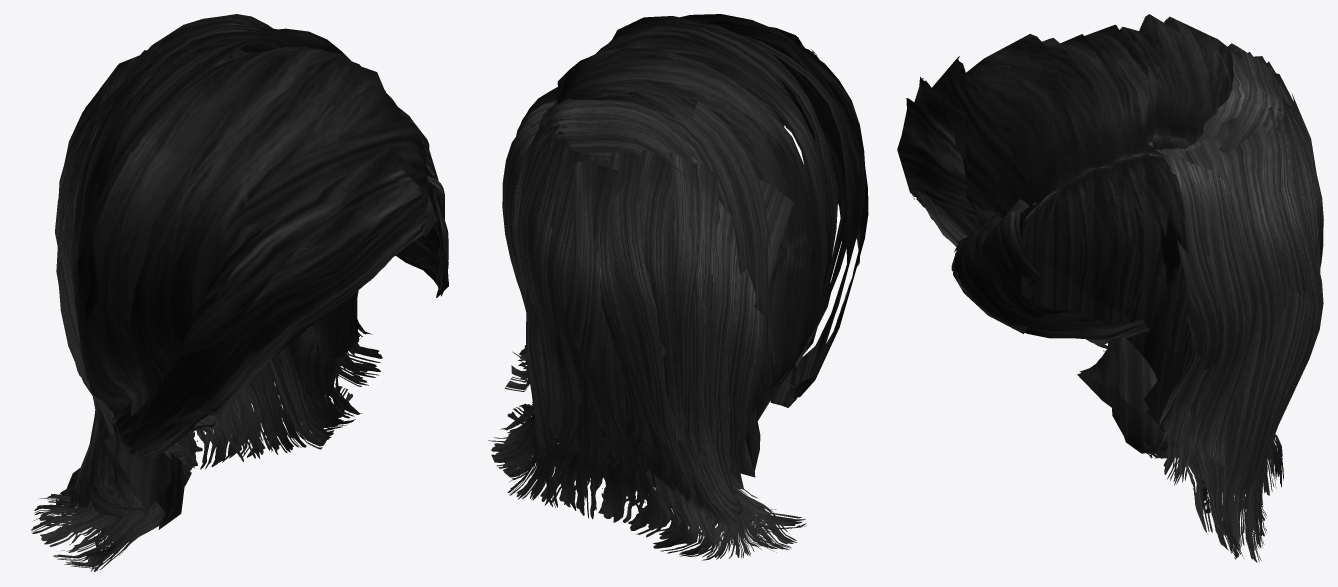
Rendered from Hair.fbx.
The picture shows the model from 3 angles, left to right: view 1: azimuth 30°, elevation 25°; view 2: azimuth 150°, elevation 25°; view 3: azimuth 270°, elevation 25°; orthographic projection. The views are drawn at different scales.
Visible parts, largest first — view 1: Hair.001; view 2: Hair.001; view 3: Hair.001.
Boxes of the visible parts, bbox=[...] form: Hair.001: bbox=[31, 14, 448, 571]; Hair.001: bbox=[488, 14, 868, 560]; Hair.001: bbox=[897, 14, 1323, 562].
Size of the model in its own units: 20.12 by 28.1 by 21.71.
